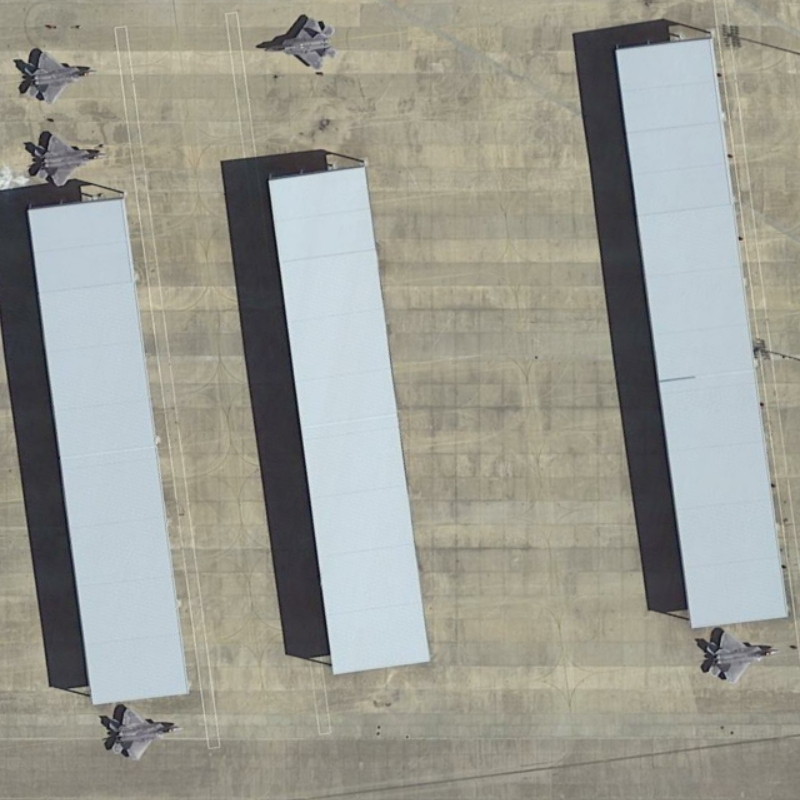A15: (699, 625, 788, 687), (26, 131, 113, 191), (18, 45, 103, 106), (105, 702, 188, 764), (261, 13, 341, 75)
